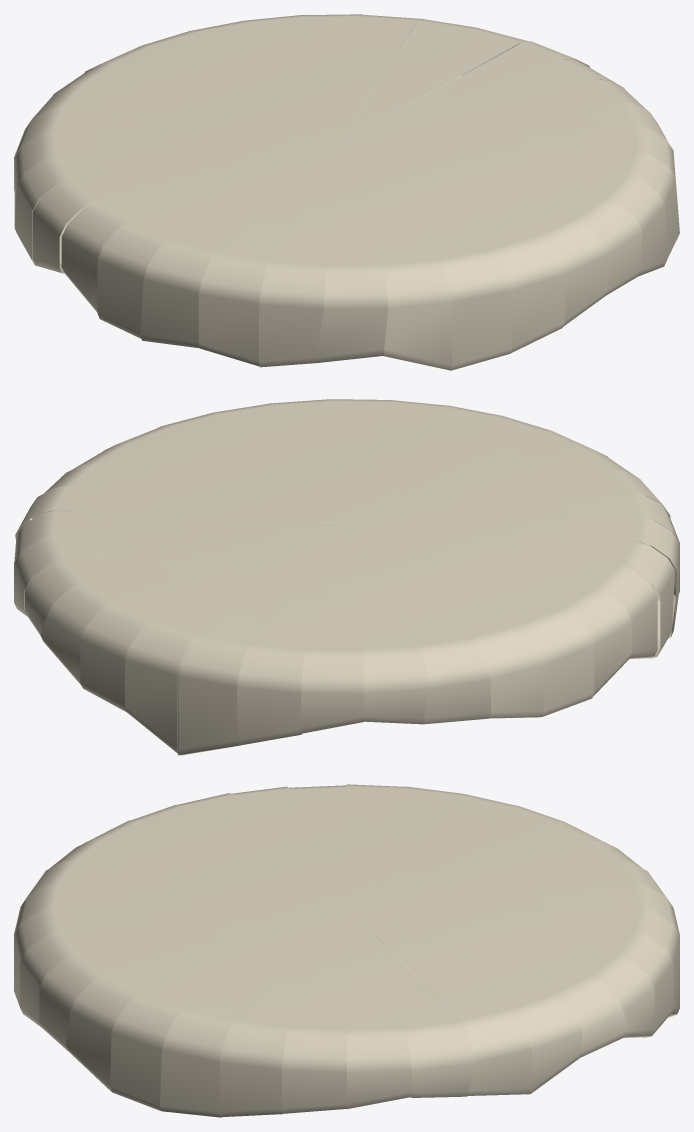
Rendered from Ara_Katman_1Y.fbx.
3 renders of one model, top to bottom at view 1: azimuth 30°, elevation 25°; view 2: azimuth 150°, elevation 25°; view 3: azimuth 270°, elevation 25°, orthographic.
Visible parts, largest first — view 1: p56, p54, p59, p68, p57, p66, p55, p69, p53, p75, p52, p74 (+20 smaller); view 2: p64, p65, p63, p71, p72, p73, p67, p70, p61, p74, p62, p75 (+20 smaller); view 3: p50, p49, p48, p47, p46, p32, p45, p51, p58, p60, p52, p62 (+20 smaller).
Part boxes in pixels (left/top/right/bottom): p56: left=346, top=143, right=512, bottom=370; p54: left=347, top=145, right=452, bottom=370; p59: left=259, top=143, right=345, bottom=367; p68: left=198, top=141, right=346, bottom=366; p57: left=316, top=143, right=388, bottom=362; p66: left=140, top=142, right=344, bottom=348; p55: left=351, top=146, right=564, bottom=353; p69: left=97, top=142, right=343, bottom=338; p53: left=349, top=144, right=607, bottom=326; p75: left=61, top=139, right=350, bottom=311; p52: left=343, top=142, right=642, bottom=295; p74: left=32, top=140, right=347, bottom=273; p64: left=177, top=526, right=344, bottom=755; p65: left=237, top=528, right=343, bottom=745; p63: left=125, top=531, right=337, bottom=755; p71: left=343, top=526, right=490, bottom=724; p72: left=346, top=527, right=546, bottom=718; p73: left=345, top=526, right=594, bottom=716; p67: left=343, top=528, right=428, bottom=724; p70: left=301, top=531, right=364, bottom=733; p61: left=80, top=526, right=345, bottom=712; p74: left=342, top=525, right=632, bottom=696; p62: left=40, top=527, right=346, bottom=684; p75: left=348, top=525, right=657, bottom=658; p50: left=160, top=906, right=346, bottom=1117; p49: left=219, top=908, right=344, bottom=1117; p48: left=110, top=908, right=343, bottom=1111; p47: left=282, top=906, right=346, bottom=1113; p46: left=350, top=909, right=531, bottom=1095; p32: left=347, top=910, right=411, bottom=1108; p45: left=348, top=909, right=474, bottom=1097; p51: left=65, top=906, right=345, bottom=1091; p58: left=349, top=907, right=582, bottom=1094; p60: left=353, top=908, right=629, bottom=1057; p52: left=39, top=908, right=339, bottom=1050; p62: left=355, top=909, right=654, bottom=1037.
Size of the model in its own units: 2.06 by 0.3793 by 2.1.
